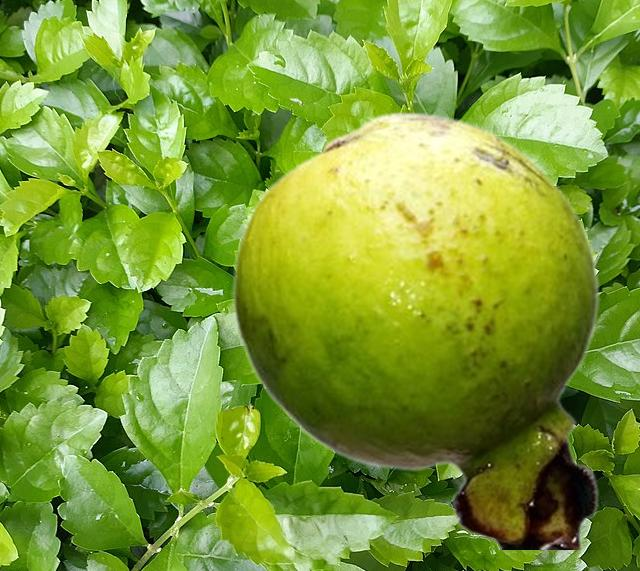guava: (231, 111, 600, 548)
